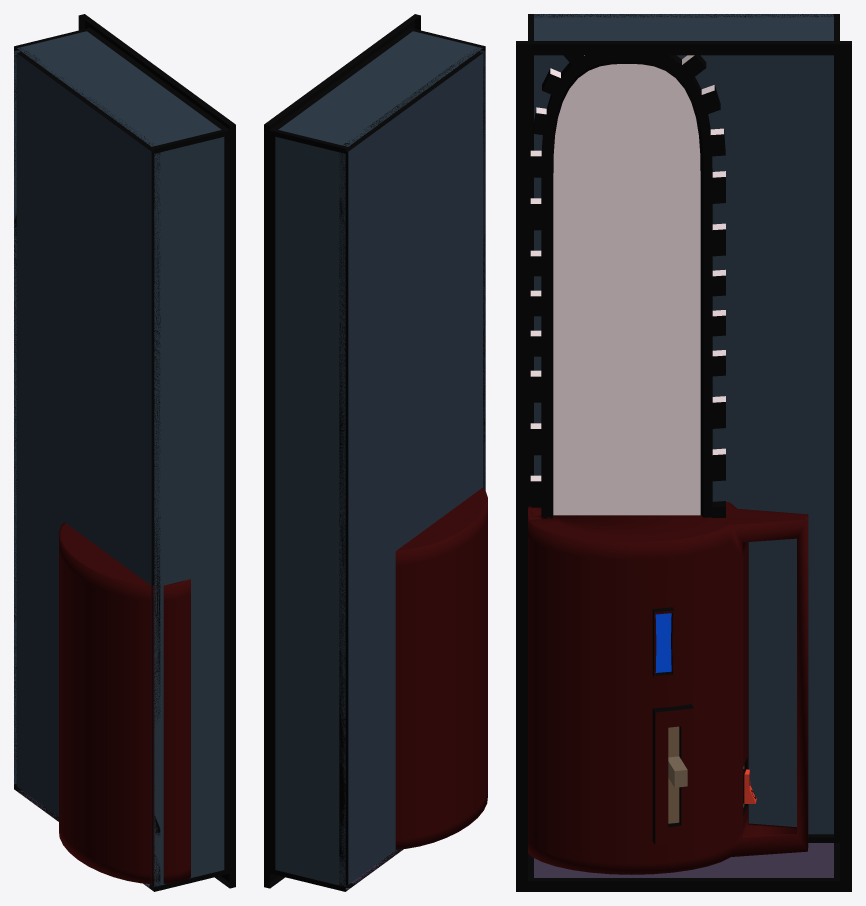
File: Chainsaw.fbx
3 views of the same model, side by side, from view 1: azimuth 30°, elevation 25°; view 2: azimuth 150°, elevation 25°; view 3: azimuth 270°, elevation 25° (orthographic). The views are drawn at different scales.
Parts seen in each view (by area): view 1: 2.BODY.007; view 2: 2.BODY.007; view 3: 2.BODY.007.
Boxes of the visible parts, bbox=[...] form: 2.BODY.007: bbox=[14, 14, 235, 891]; 2.BODY.007: bbox=[264, 14, 487, 891]; 2.BODY.007: bbox=[516, 14, 851, 891].
Size of the model in its own units: 13.83 by 78 by 28.
